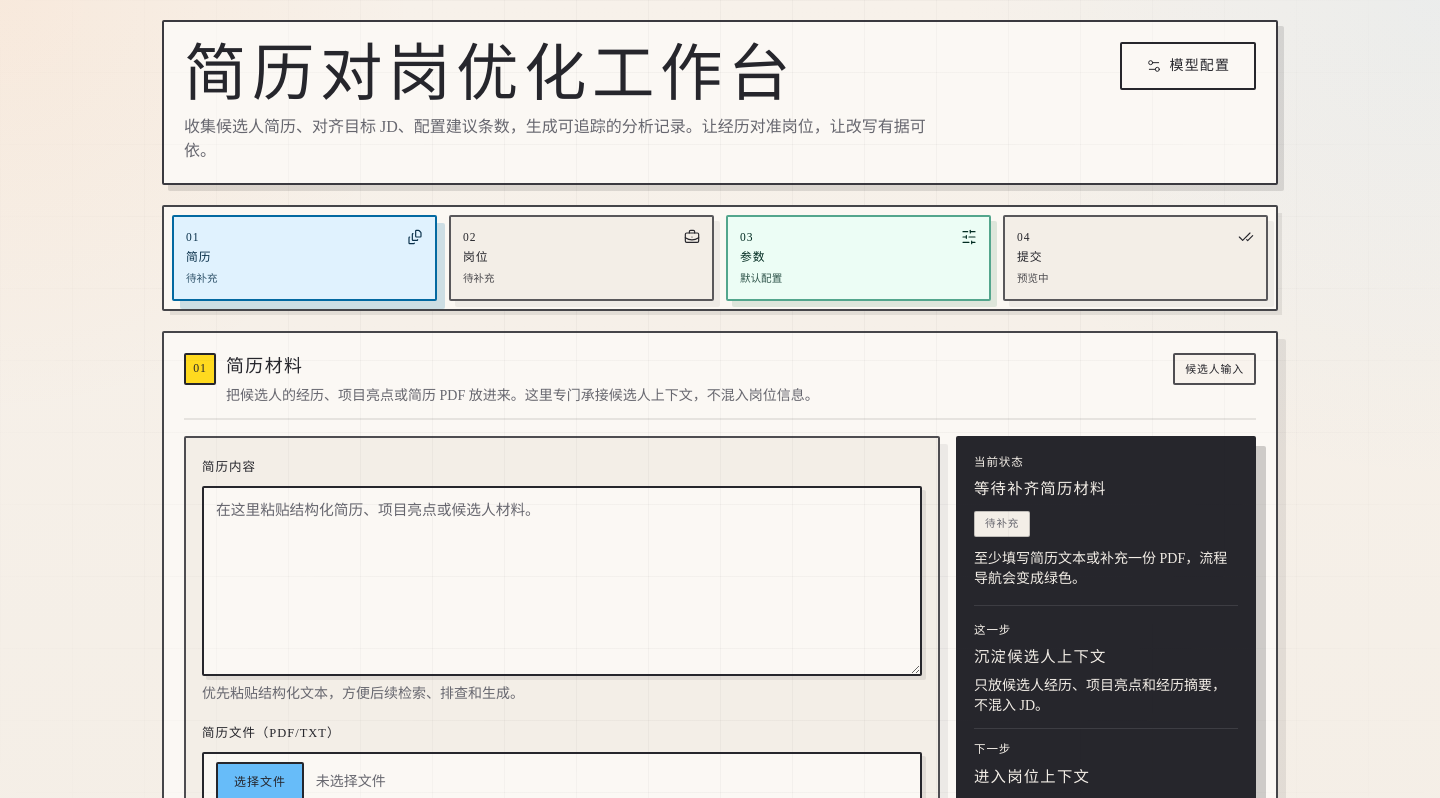
Test case: ResumeReviewForm › keeps submit preview-only when 简历内容 is the only completed main input
Step 1. Type "Built hiring workflows and interview tooling." into the text box labelled "简历内容" → (562, 581), box 202,486 -> 922,676
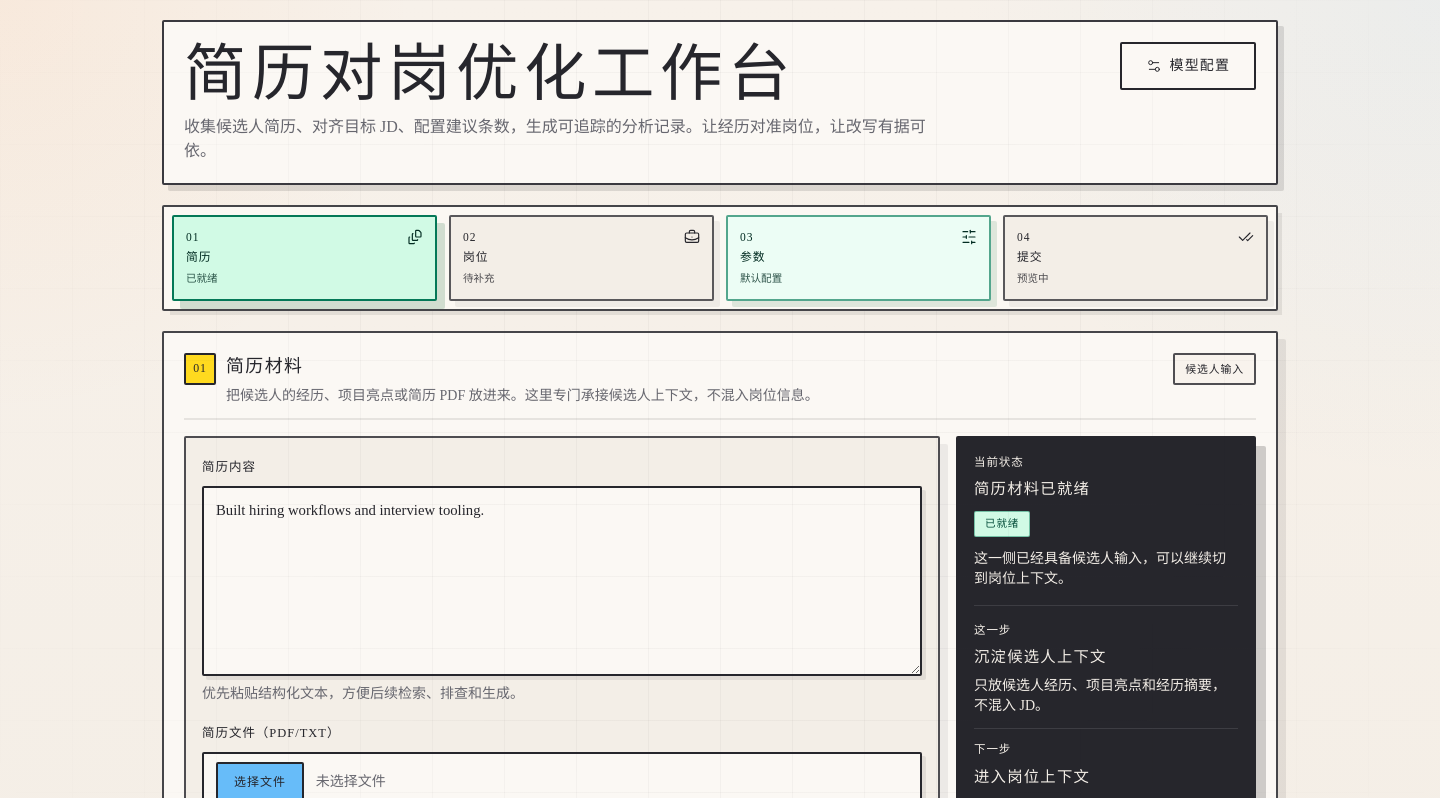
Step 2. Click the button with aria-label "04 提交生成" → (1033, 279), box 1003,215 -> 1268,301
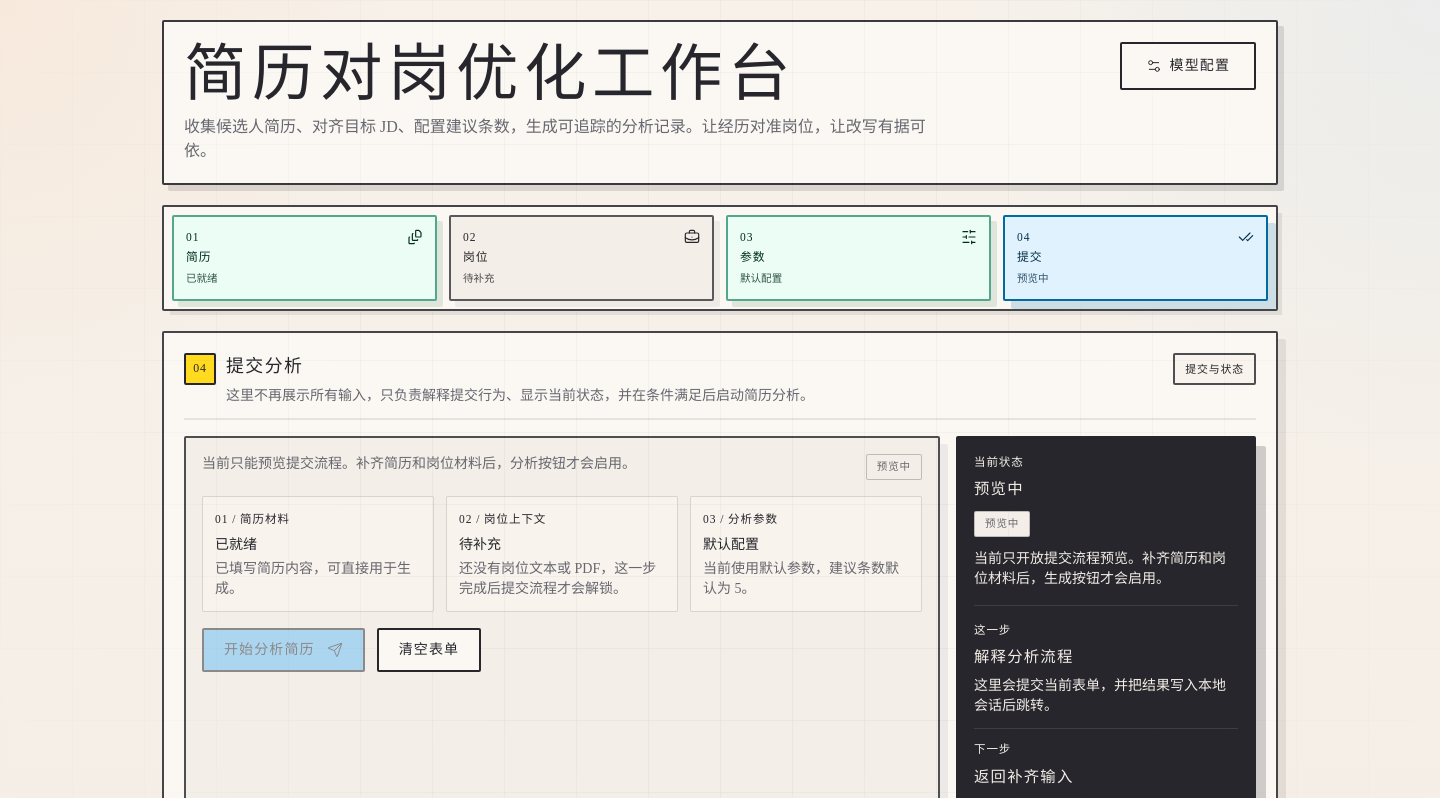
Check: the button "开始分析简历" is disabled, box 202,628 -> 365,672
Check: the text "当前只能预览提交流程。补齐简历和岗位材料后，分析按钮才会启用。" is shown, box 202,454 -> 636,474
